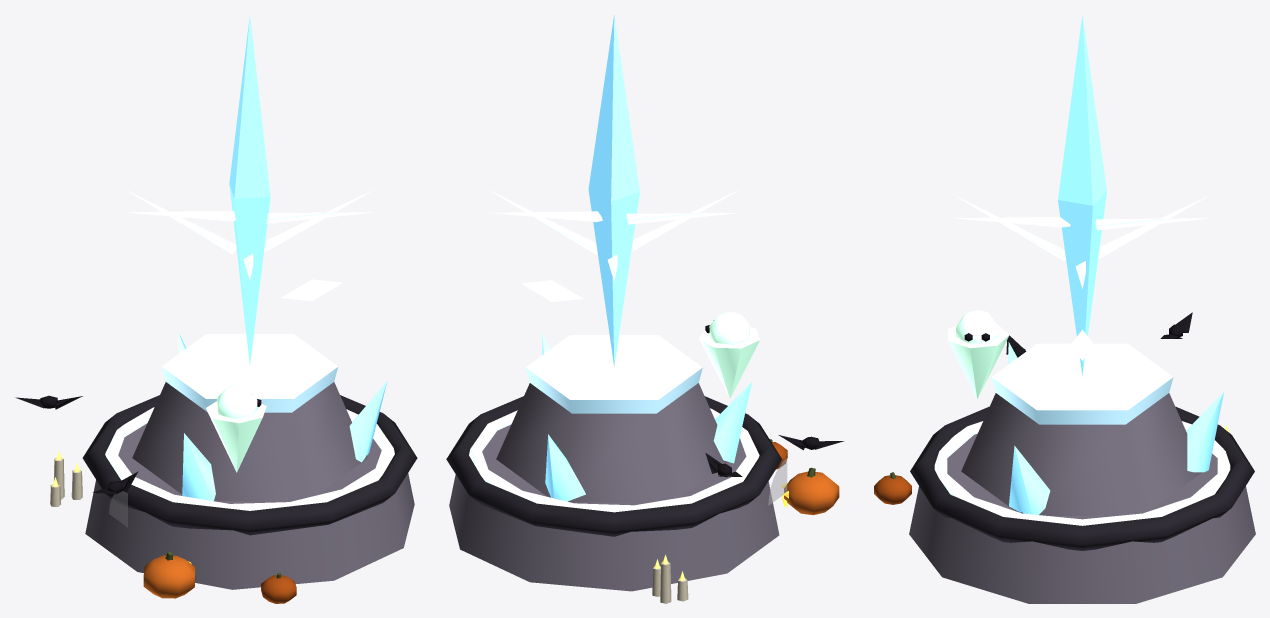
Rendered from tower_freeze_frostField.glb.
3 renders of one model, left to right at view 1: azimuth 30°, elevation 25°; view 2: azimuth 150°, elevation 25°; view 3: azimuth 270°, elevation 25°, orthographic. The views are drawn at different scales.
Parts seen in each view (by area): view 1: base, pedestal, base_rim, pedestal_frost, crystal, aura_ring, deco_hw_jack_body, deco_hw_ghost_sheet, side_crystal_1, side_crystal_0, deco_hw_ghost_head, deco_hw_candles (+6 smaller); view 2: base, pedestal, pedestal_frost, base_rim, crystal, aura_ring, deco_hw_ghost_sheet, deco_hw_jack_body, side_crystal_1, side_crystal_2, deco_hw_ghost_head, deco_hw_candles (+6 smaller); view 3: base, pedestal, pedestal_frost, base_rim, crystal, aura_ring, deco_hw_ghost_sheet, side_crystal_0, side_crystal_2, deco_hw_ghost_head, deco_hw_pumpkin_body, needle_5 (+3 smaller).
Part boxes in pixels (x1,y1,x2,y2): base: (85,423,414,589); pedestal: (132,382,367,501); base_rim: (82,395,417,535); pedestal_frost: (161,334,338,412); crystal: (229,15,270,364); aura_ring: (105,407,394,510); deco_hw_jack_body: (143,555,195,598); deco_hw_ghost_sheet: (206,401,266,472); side_crystal_1: (182,433,215,500); side_crystal_0: (349,381,387,462); deco_hw_ghost_head: (217,386,257,418); deco_hw_candles: (50,450,82,506); base: (449,424,779,591); pedestal: (496,383,728,502); pedestal_frost: (525,335,702,413); base_rim: (446,396,782,536); crystal: (588,15,639,366); aura_ring: (469,408,759,512); deco_hw_ghost_sheet: (699,327,759,398); deco_hw_jack_body: (784,471,839,515); side_crystal_1: (713,382,751,463); side_crystal_2: (545,434,585,501); deco_hw_ghost_head: (709,312,749,344); deco_hw_candles: (652,554,688,603); base: (909,433,1255,603); pedestal: (961,393,1201,515); pedestal_frost: (991,343,1173,424); base_rim: (910,406,1254,550); crystal: (1058,14,1106,376); aura_ring: (934,421,1230,525); deco_hw_ghost_sheet: (948,324,1009,399); side_crystal_0: (1009,445,1050,514); side_crystal_2: (1186,392,1223,472); deco_hw_ghost_head: (956,310,998,343); deco_hw_pumpkin_body: (874,475,911,504); needle_5: (1095,218,1209,230).
Bounding box in the file's own units: 0.4655 × 0.662 × 0.4404.
